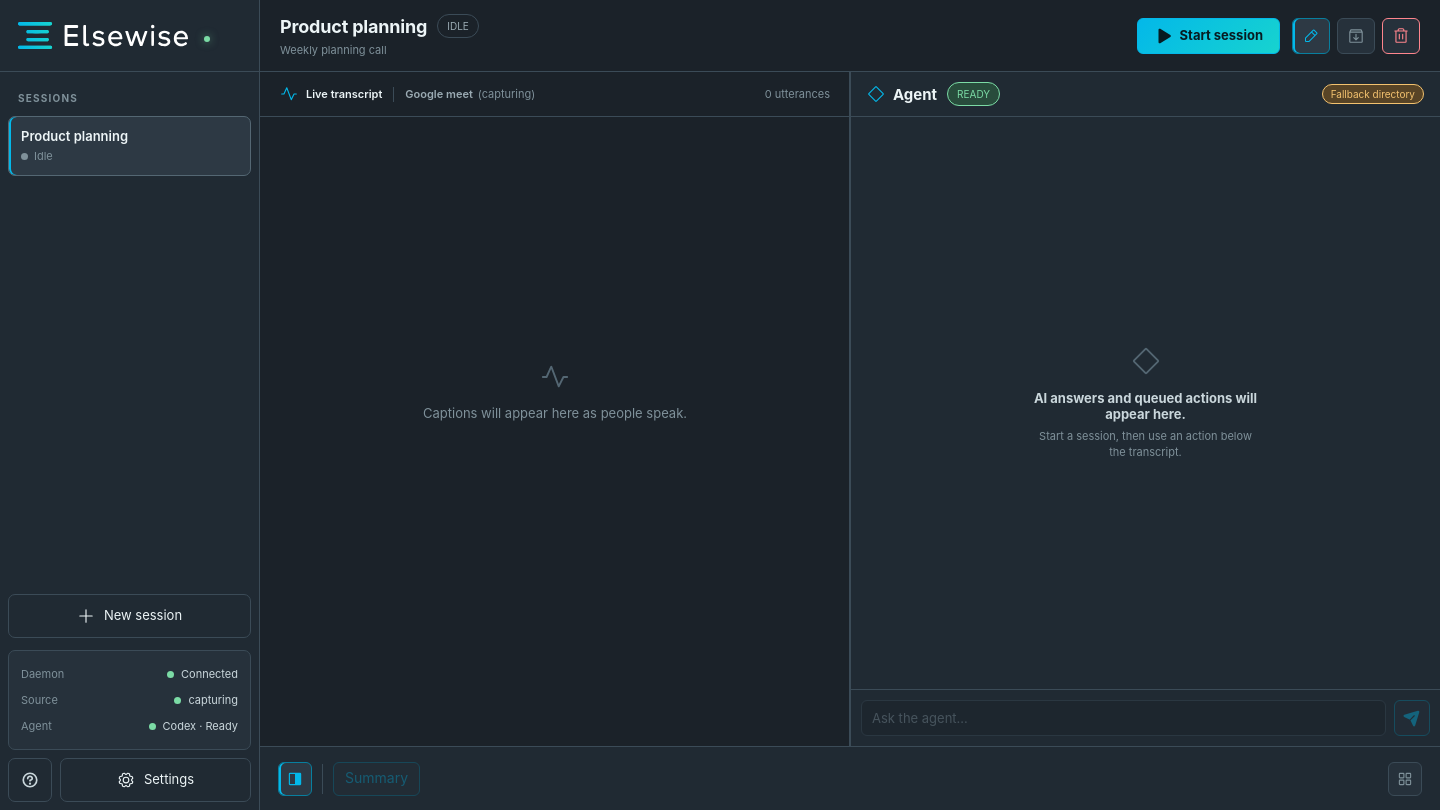
App actions › creates an action without exposing a stable key
Expected: the heading "Product planning" is shown, [280,16,427,36]
Click the button named "Actions" at (1405, 778), box [1388,762,1422,796]
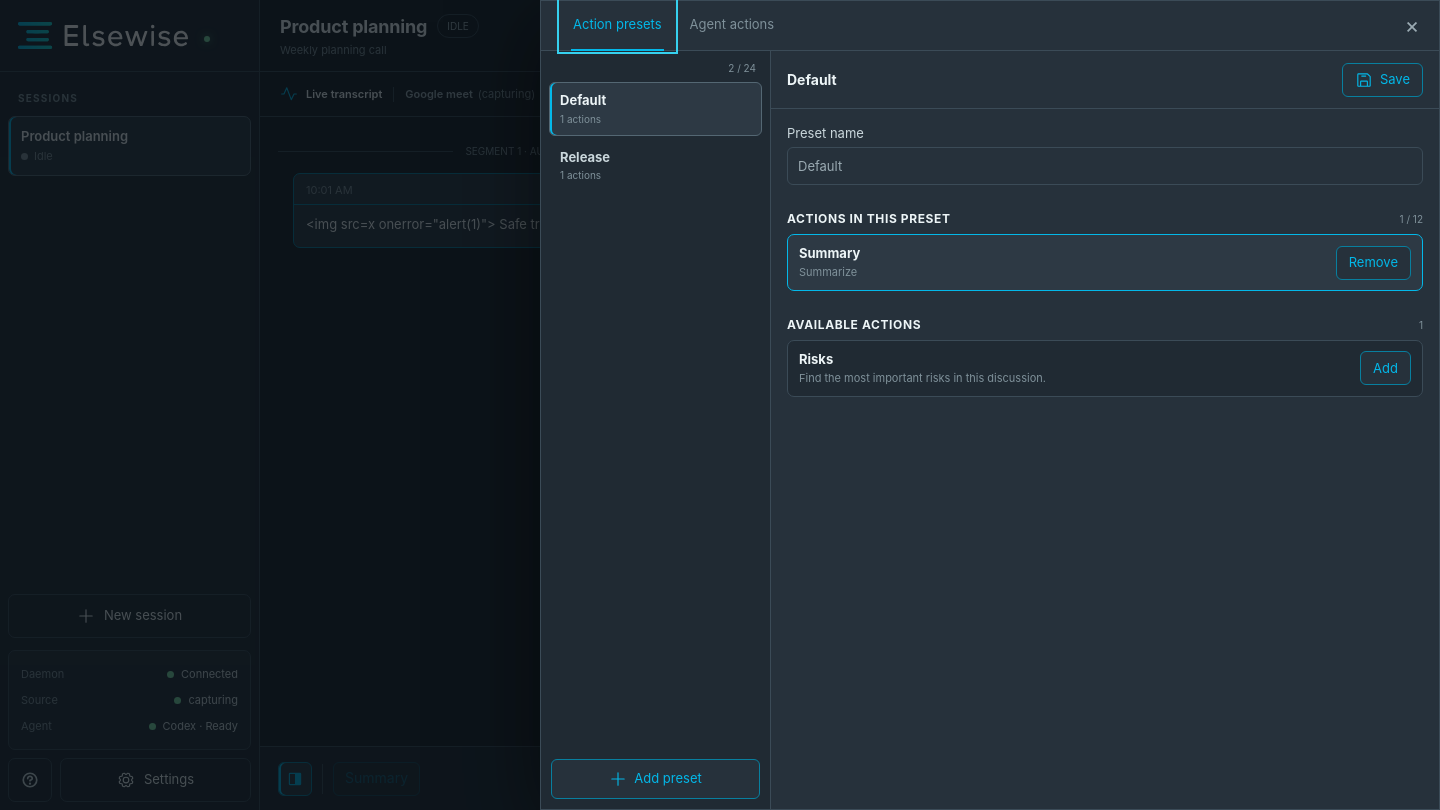
Click the tab "Agent actions" at (732, 26), box [678,1,786,50]
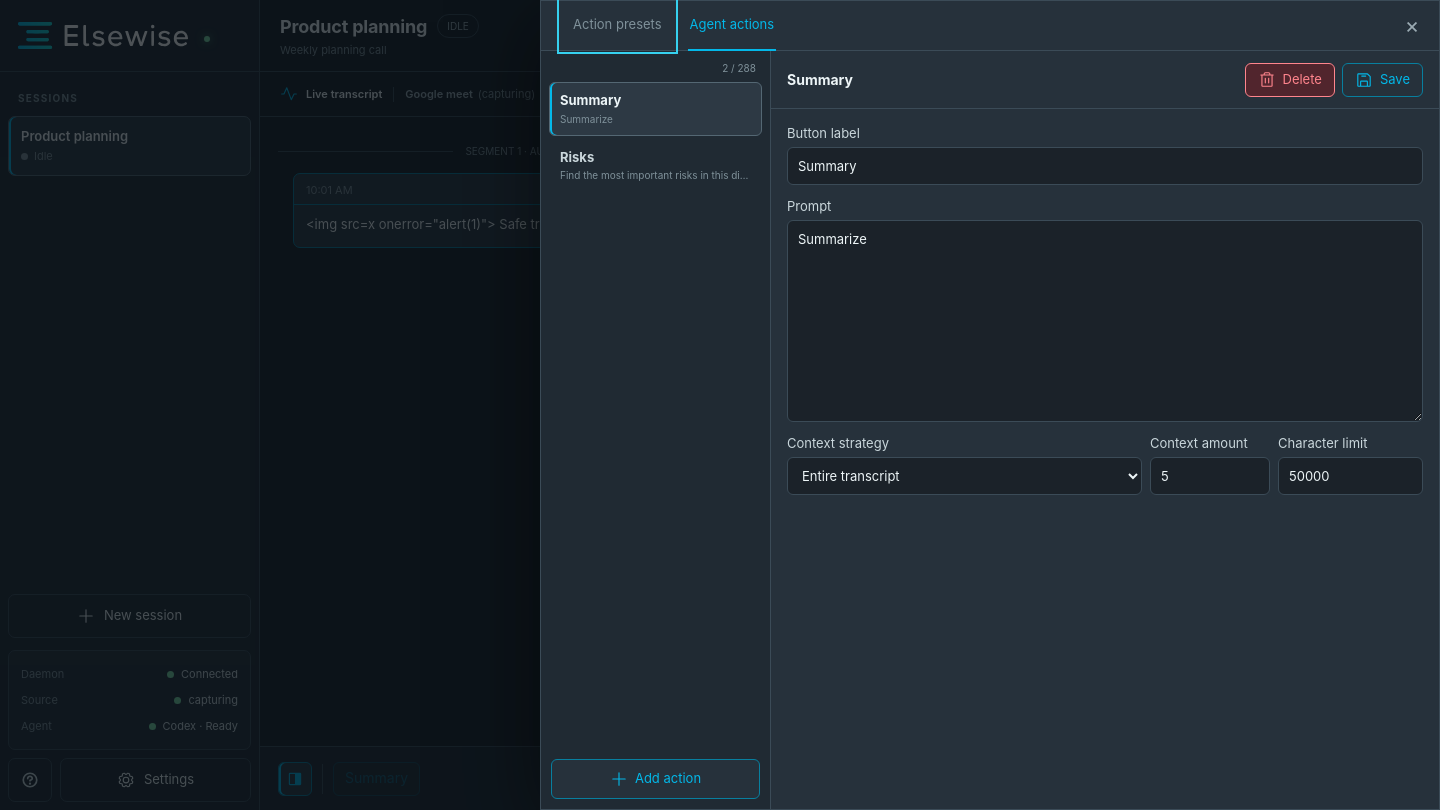
Click the button "Add action" at (656, 779), box [551,759,760,799]
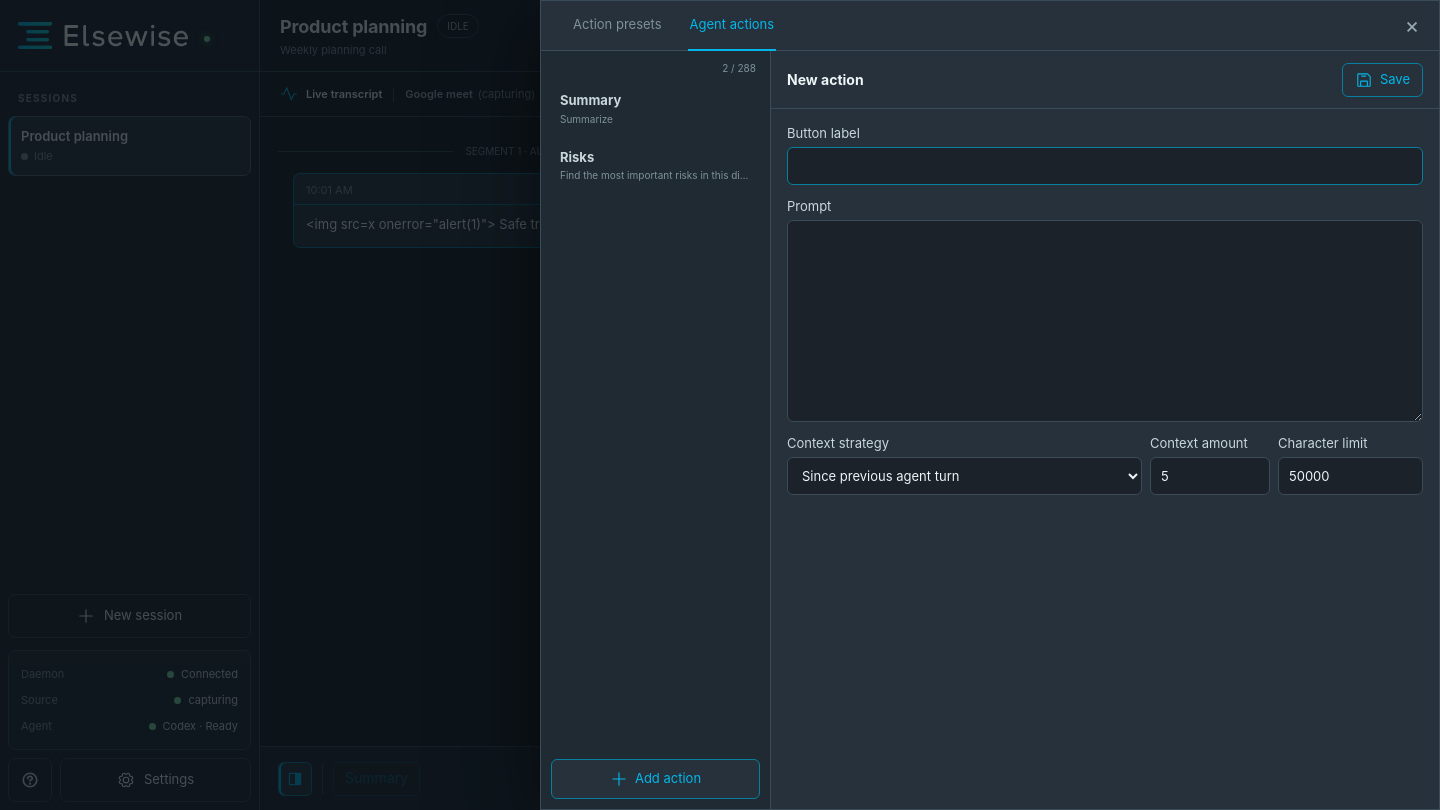
Type "Decisions" into the field labelled "Button label" at (1105, 166), box [787,147,1423,185]
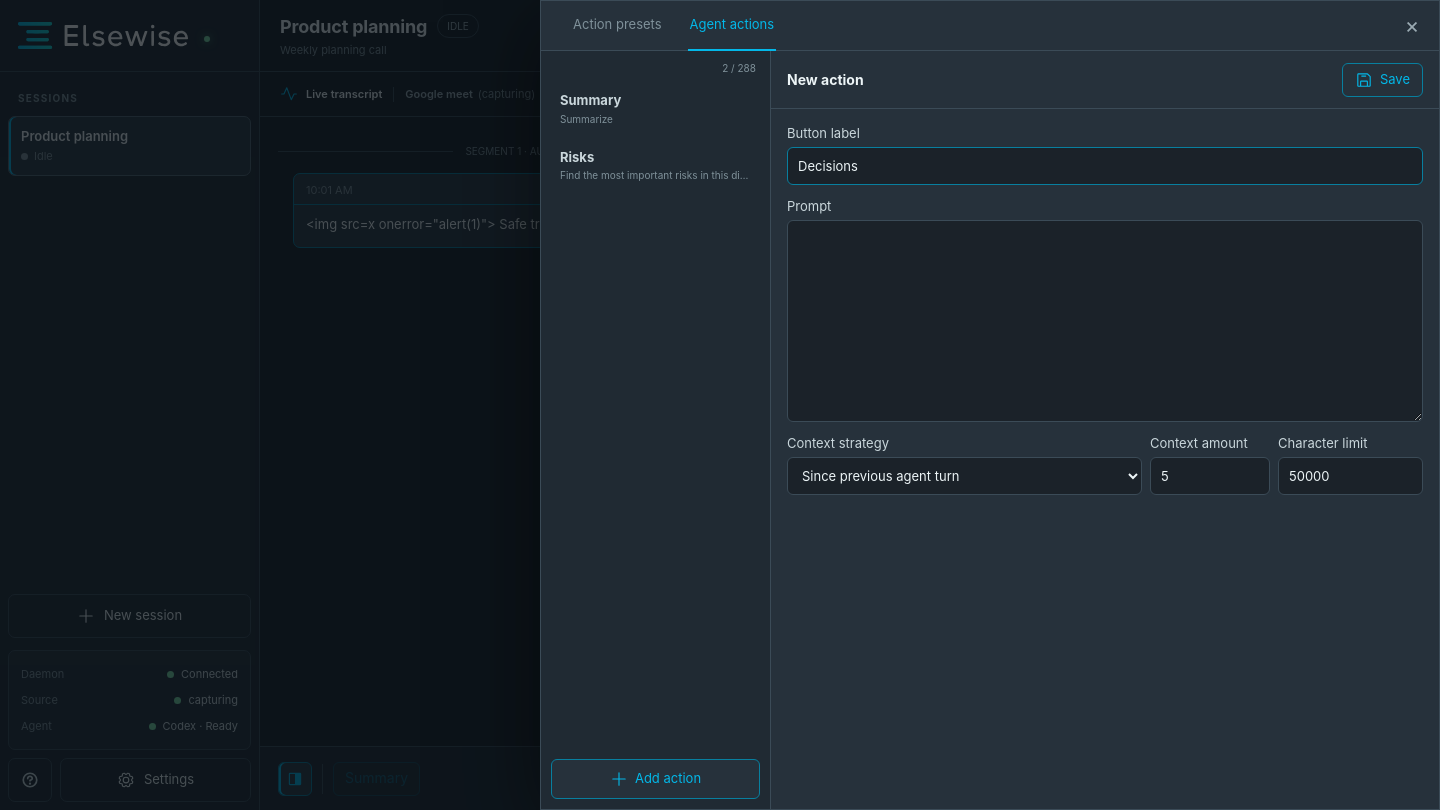
Type "Find the decisions" into the text box labelled "Prompt" at (1105, 321), box [787,220,1423,422]
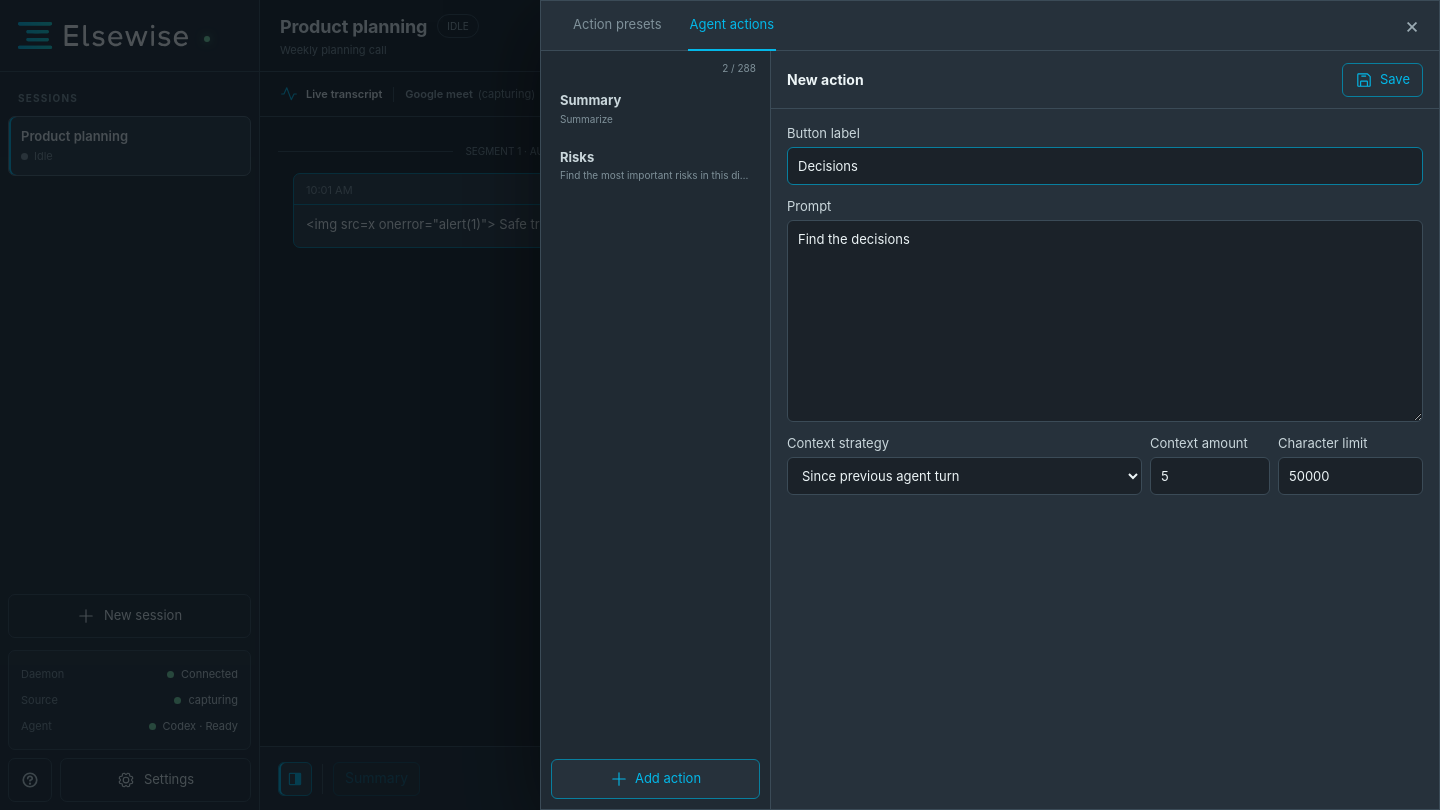
Click the button "Save" at (1382, 80), box [1342,62,1423,96]
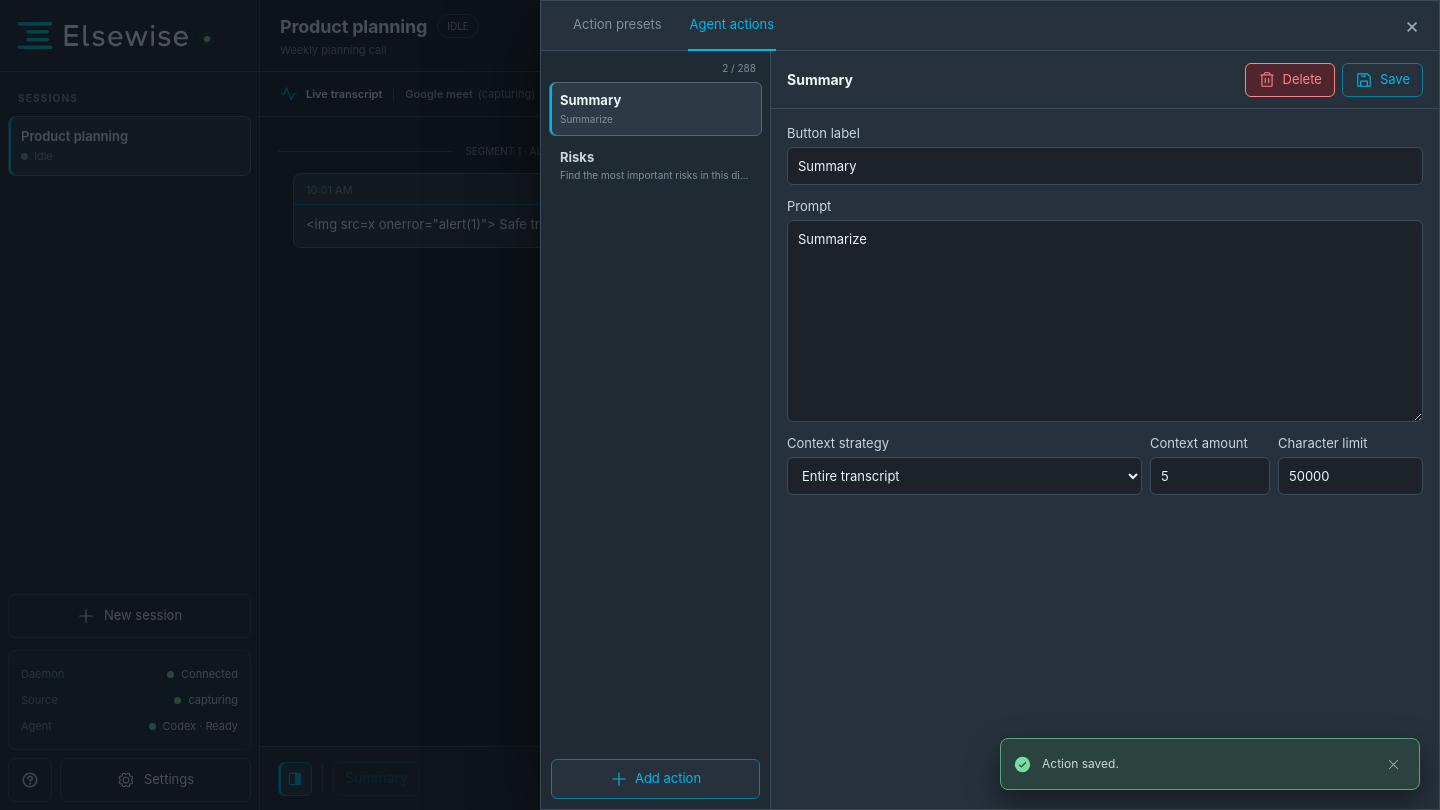
Now the message reads "Action saved.", box [1042,756,1119,771]
